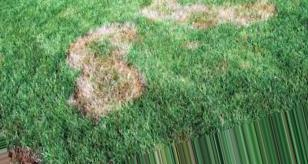patch: (70, 65, 138, 97), (200, 4, 243, 28), (153, 2, 193, 24), (74, 37, 121, 54), (79, 103, 114, 122), (255, 8, 272, 19)
